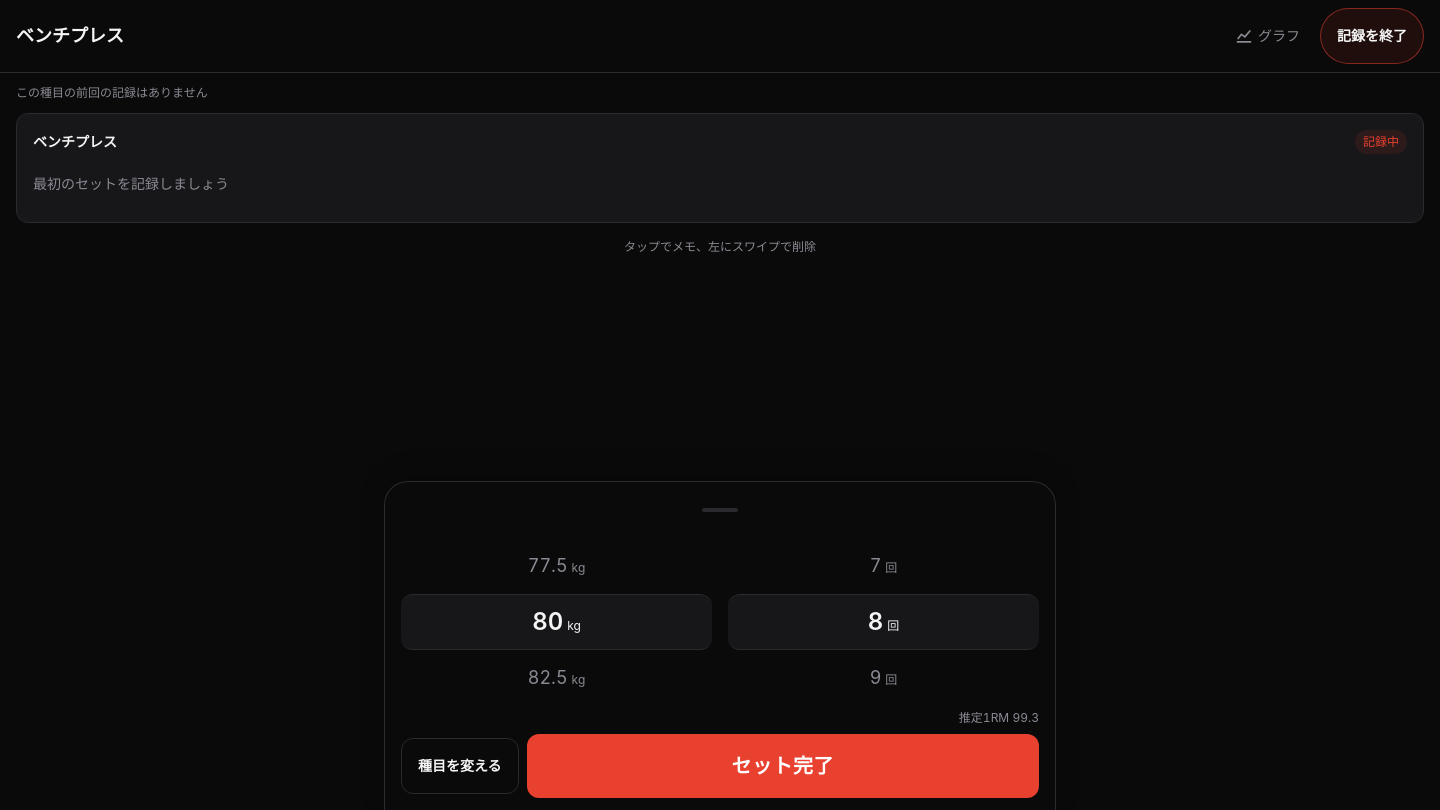
LogPage › keeps the entry area to the numbers and adds memos by tapping the recorded set
This screenshot has width=1440, height=810.
(page scrolled)
Check: the number field named "重量" is shown, box [401,538,712,706]
Check: the text "推定1RM 99.3" is shown, box [959,710,1039,725]
Click the button "セット完了".
click(783, 766)  # box [527,734,1039,798]
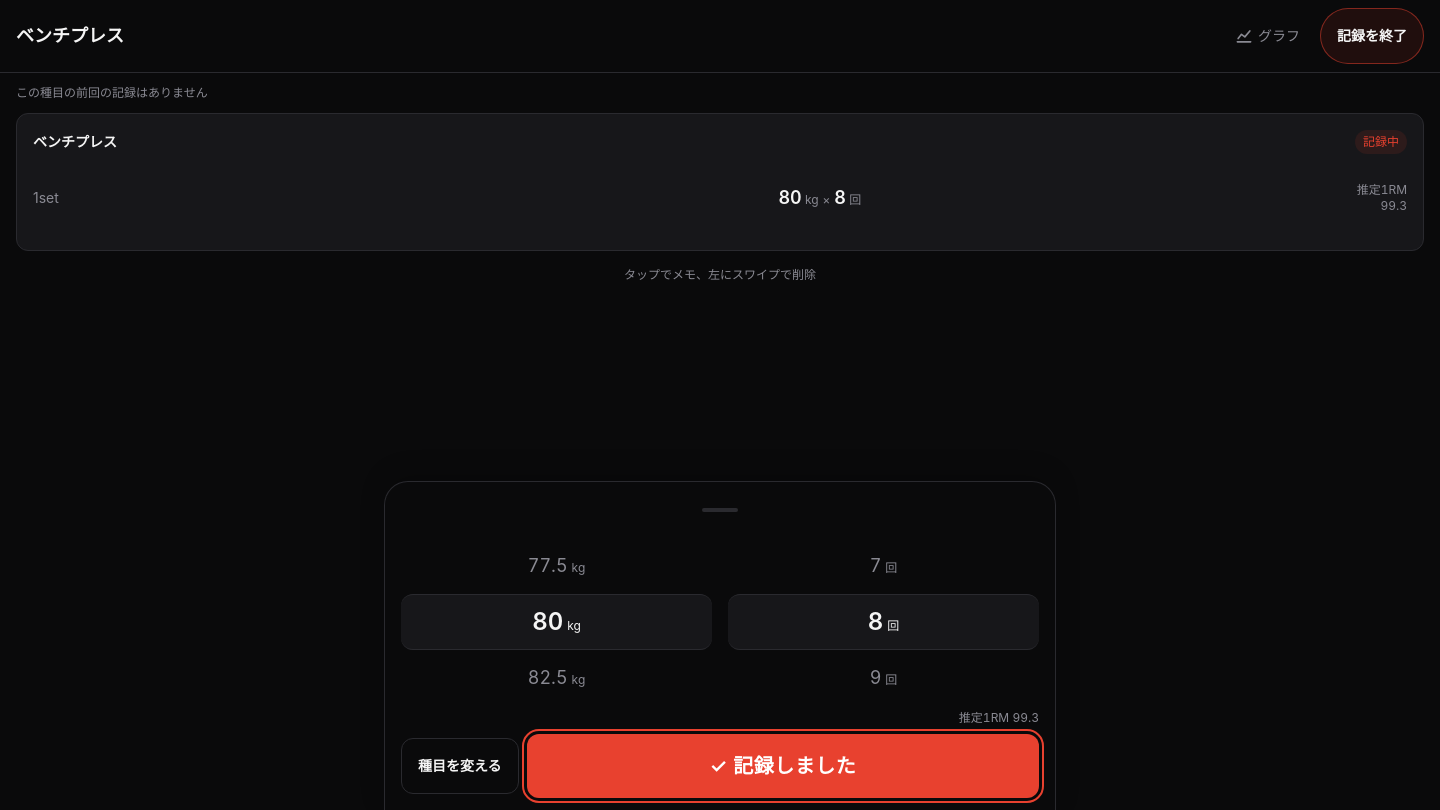
Click the button with aria-label "のメモを追加".
click(1382, 190)  # box [33,170,1407,226]
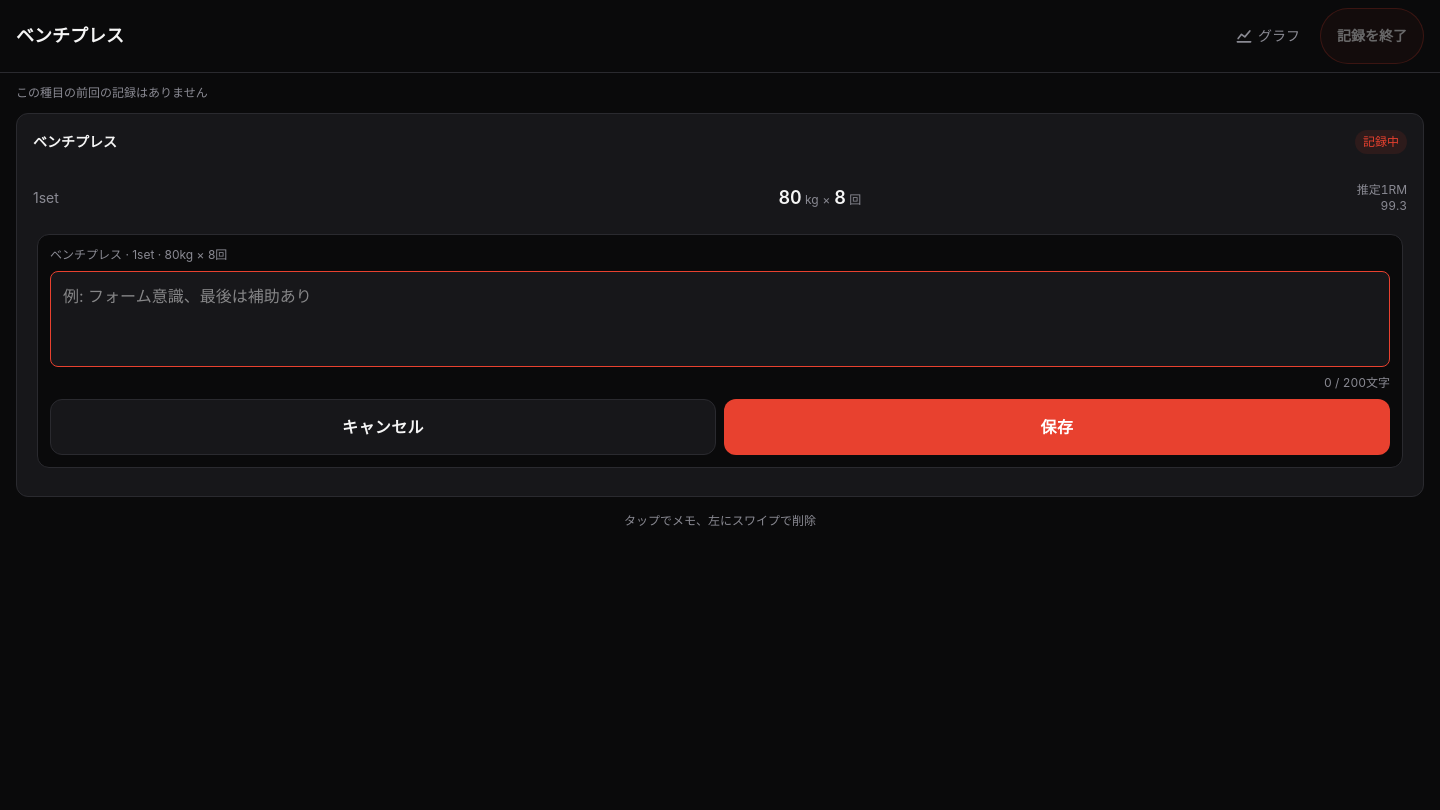
Type "最後は補助あり" into the text box named "セットのメモ".
click(720, 319); type("最後は補助あり")  # box [50,271,1390,367]
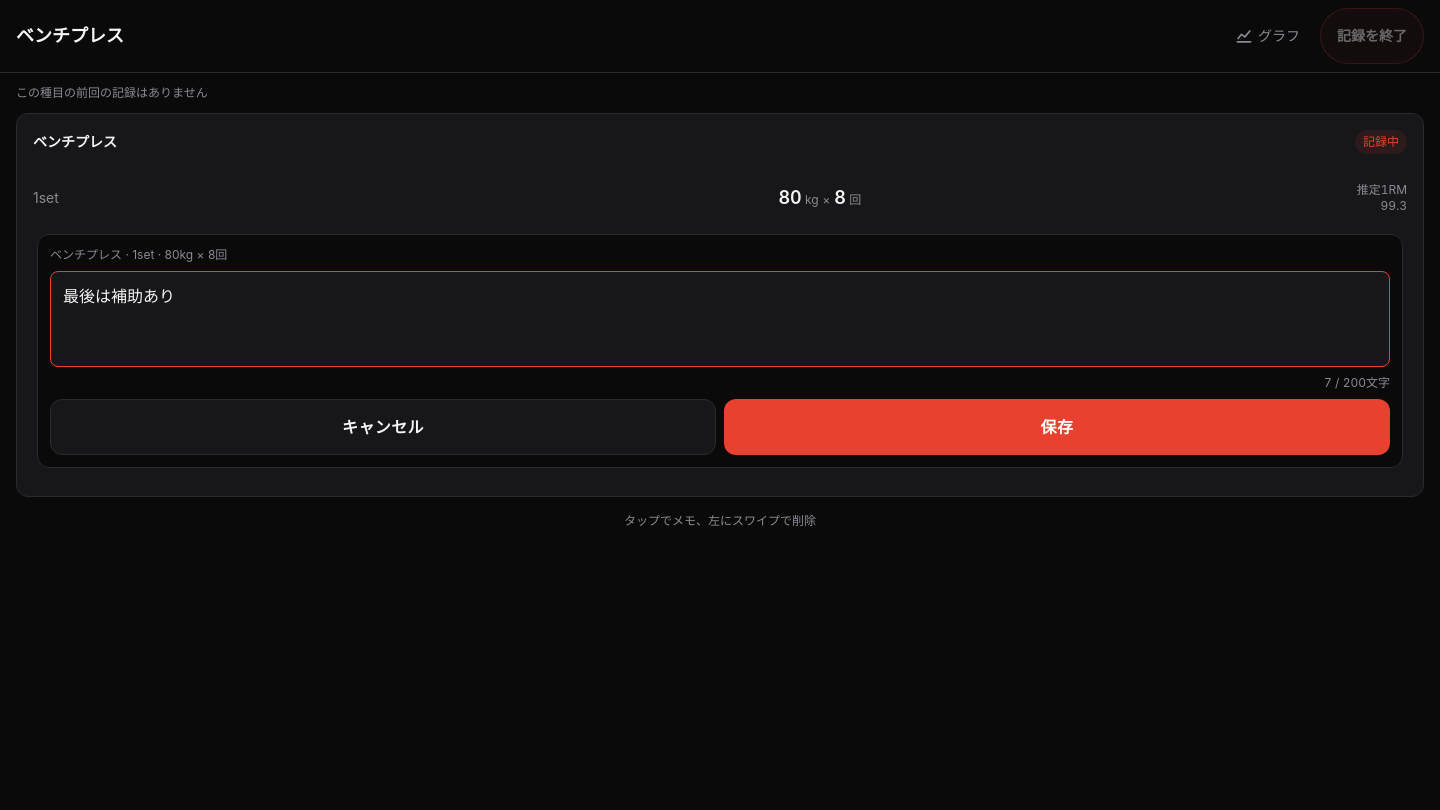
Click the button "保存".
click(1057, 427)  # box [724,399,1390,455]
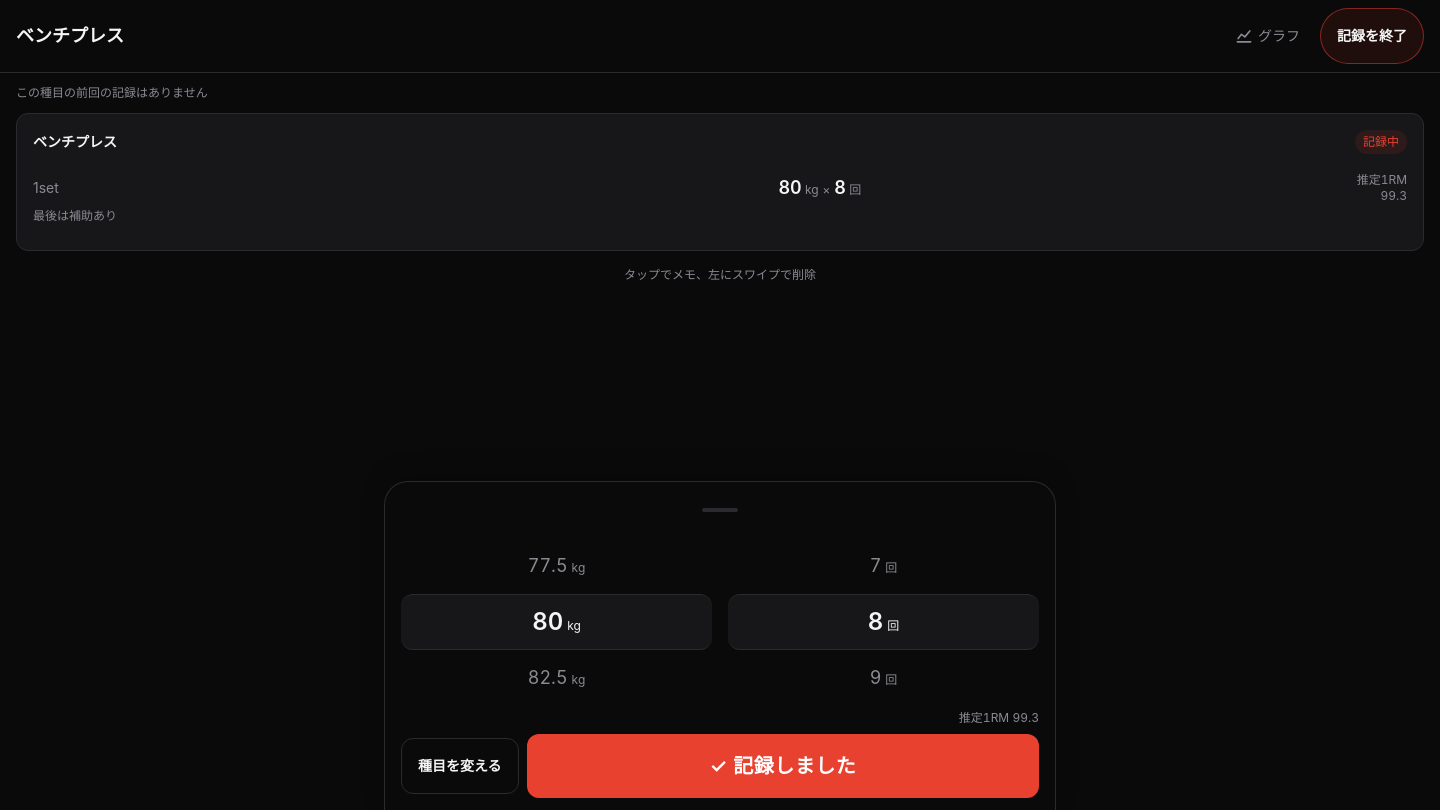
Check: the text "最後は補助あり" is shown, box [33,208,117,223]
